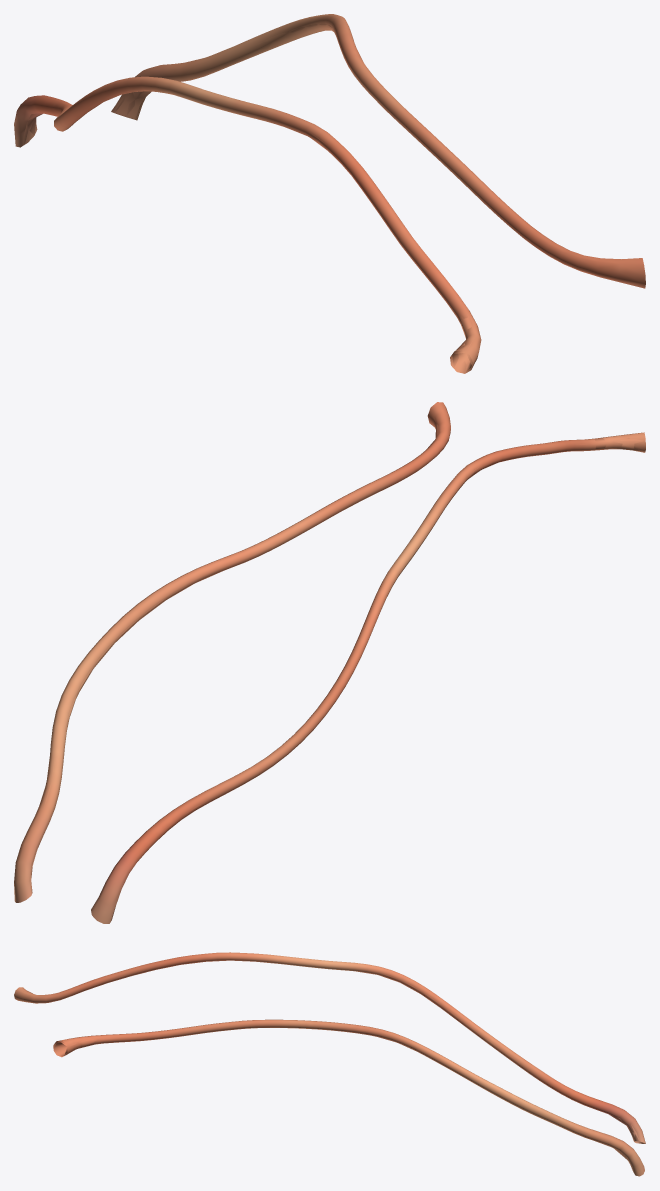
The model's file is Ureter.fbx.
3 views of the same model, one above another, from view 1: azimuth 30°, elevation 25°; view 2: azimuth 150°, elevation 25°; view 3: azimuth 270°, elevation 25° (orthographic). The views are drawn at different scales.
Parts seen in each view (by area): view 1: Ureter, Ureter low; view 2: Ureter, Ureter low; view 3: Ureter, Ureter low.
Boxes of the visible parts, bbox=[...] form: Ureter: bbox=[14, 14, 645, 373]; Ureter low: bbox=[24, 23, 618, 373]; Ureter: bbox=[14, 402, 645, 923]; Ureter low: bbox=[30, 412, 644, 893]; Ureter: bbox=[14, 952, 645, 1176]; Ureter low: bbox=[21, 957, 645, 1168].
Size of the model in its own units: 4.7 by 4.79 by 15.88.
1 material, 1 textured.
